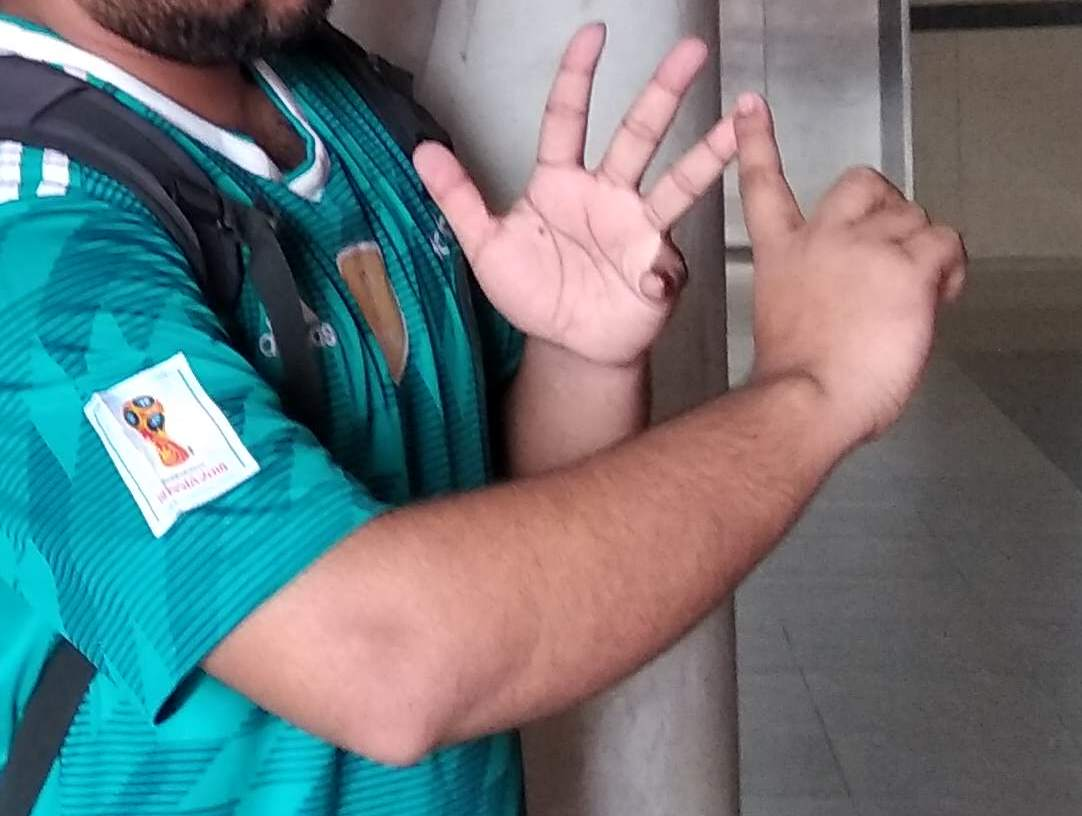e: (524, 16, 892, 306)
